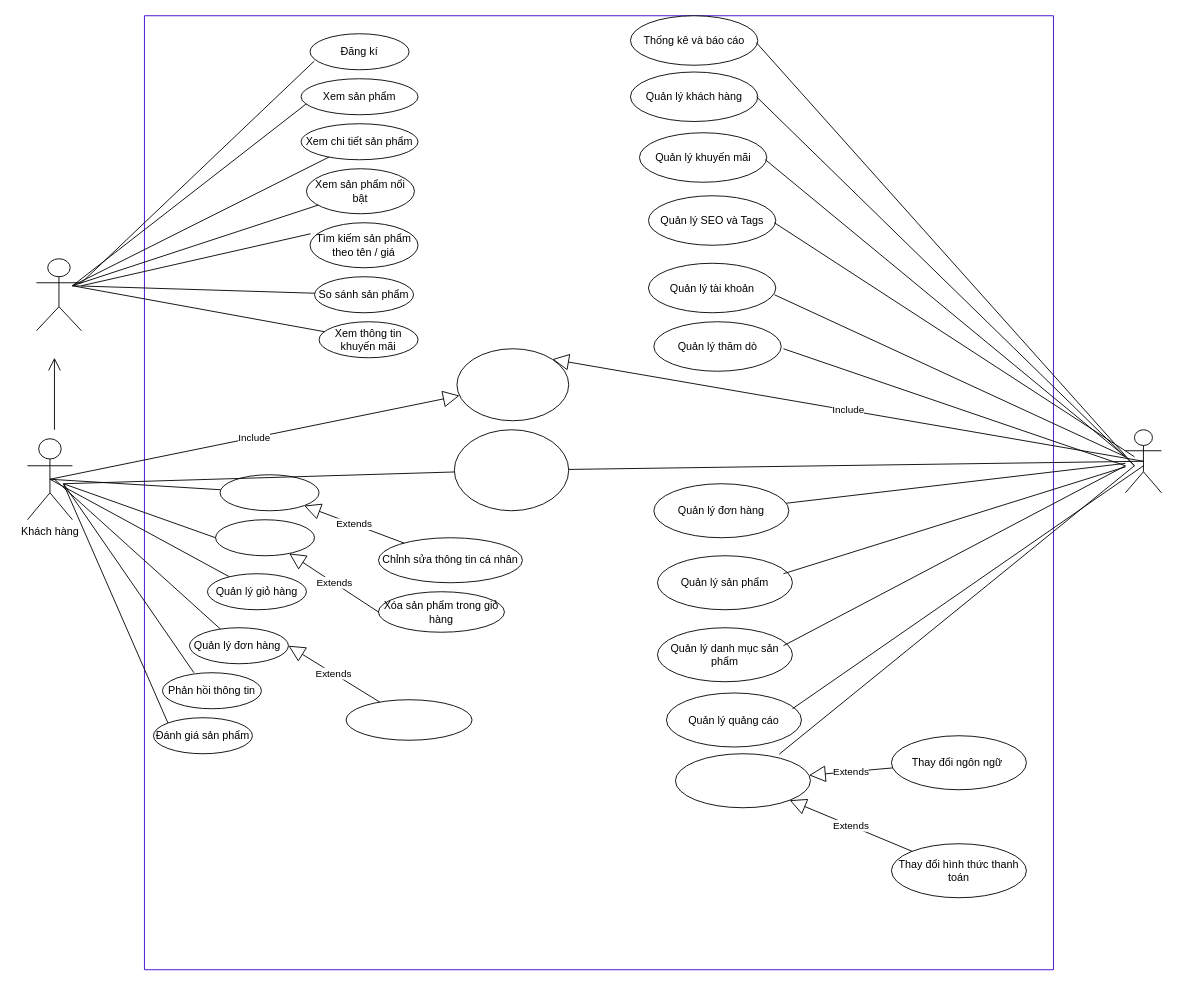
The diagram is 1193 pixels wide and 986 high, and some of its shapes have lost their labels. The centre of each missing label's shape, as x and y in pixels:
"Khách viếng thăm" belongs at (x=58, y=294).
"Người quản trị" belongs at (x=1143, y=461).
"Quản lý cấu hình" belongs at (x=742, y=780).
"Quản lý hồ sơ cá nhận" belongs at (x=269, y=492).
"Theo dõi tình trạng đơn hàng" belongs at (x=408, y=719).
"Thêm sản phẩm vào giỏ hàng" belongs at (x=265, y=537).
"Đăng nhập" belongs at (x=512, y=384).
"Đăng xuất" belongs at (x=511, y=470).
